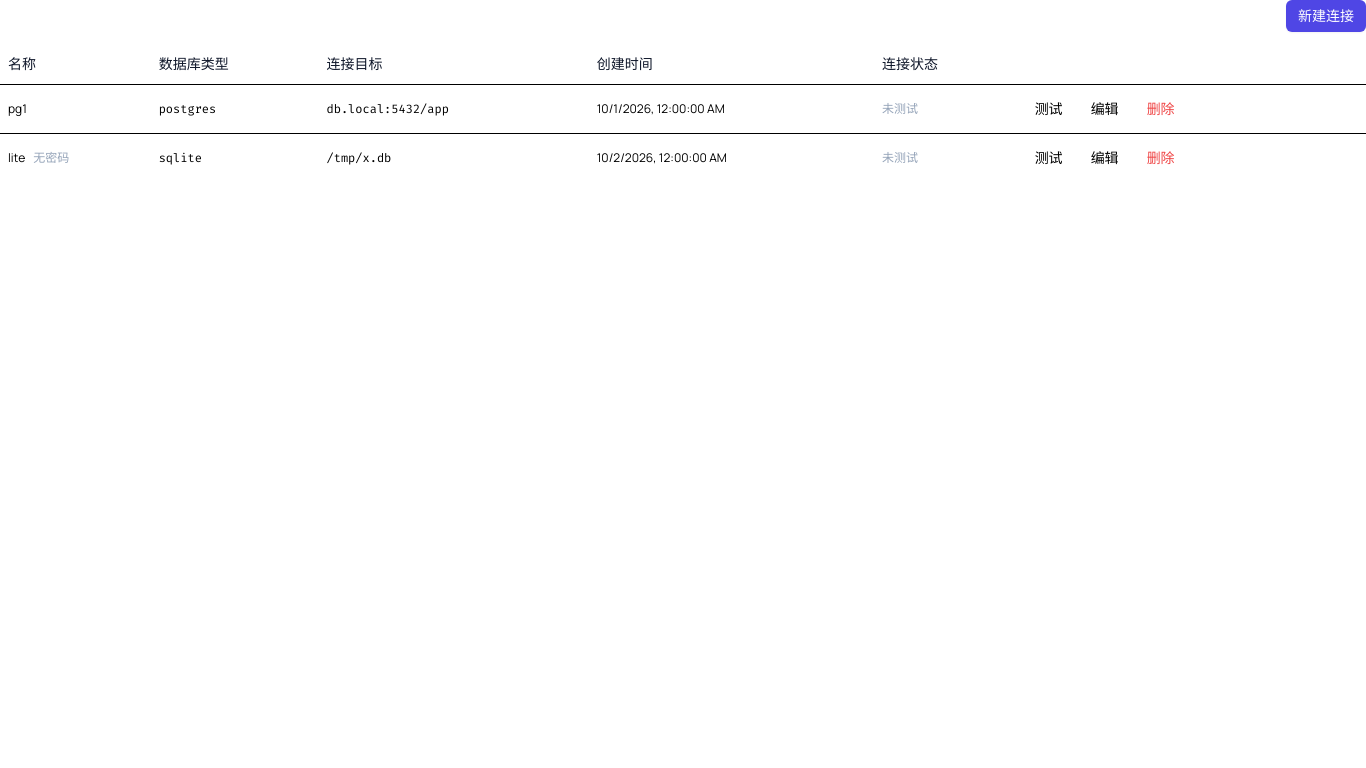
Scenario: ConnectionsPanel — 编辑与删除 › blocks renaming to another connection’s name without a request
Click the button "编辑" in the row of "pg1".
click(1105, 108)  # box [1079,92,1131,124]
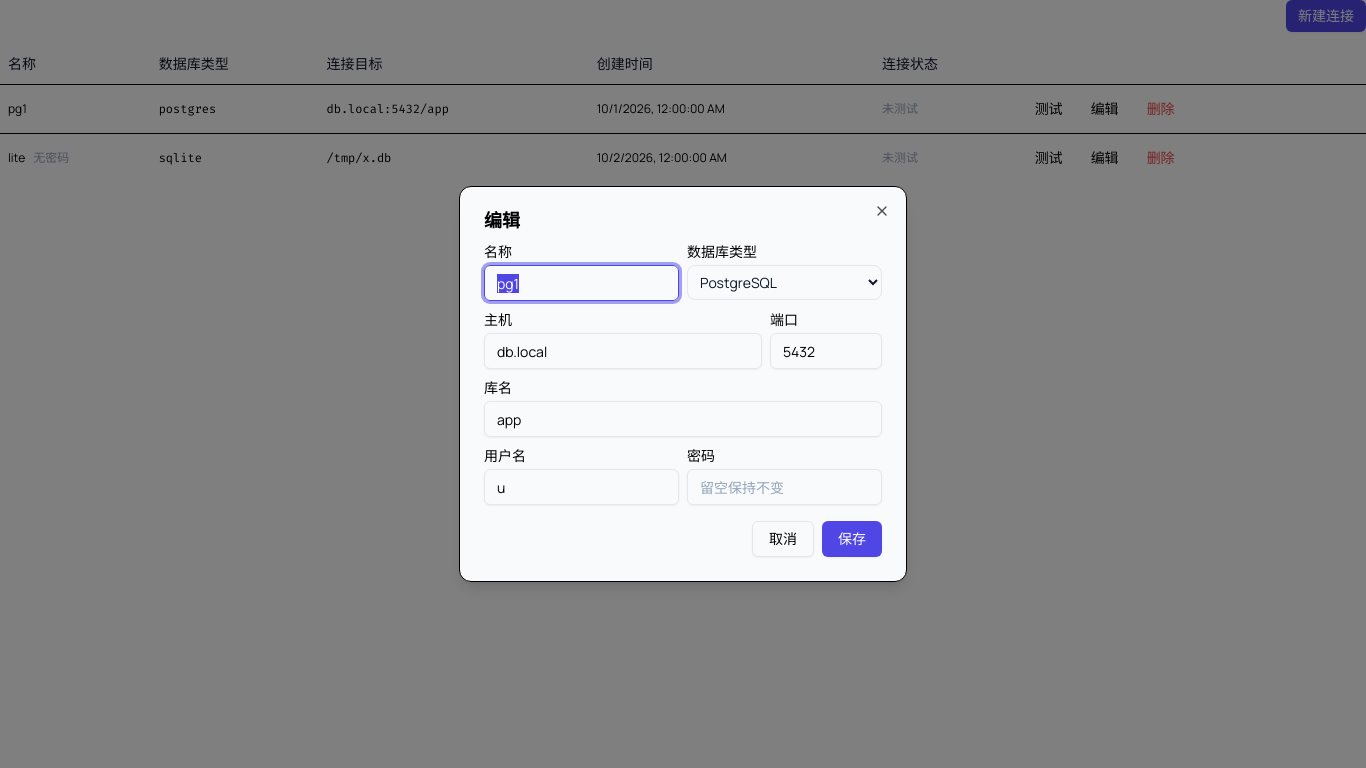
Replace the text in the field labelled "名称" with "lite" at (582, 283), box [484,265,679,301]
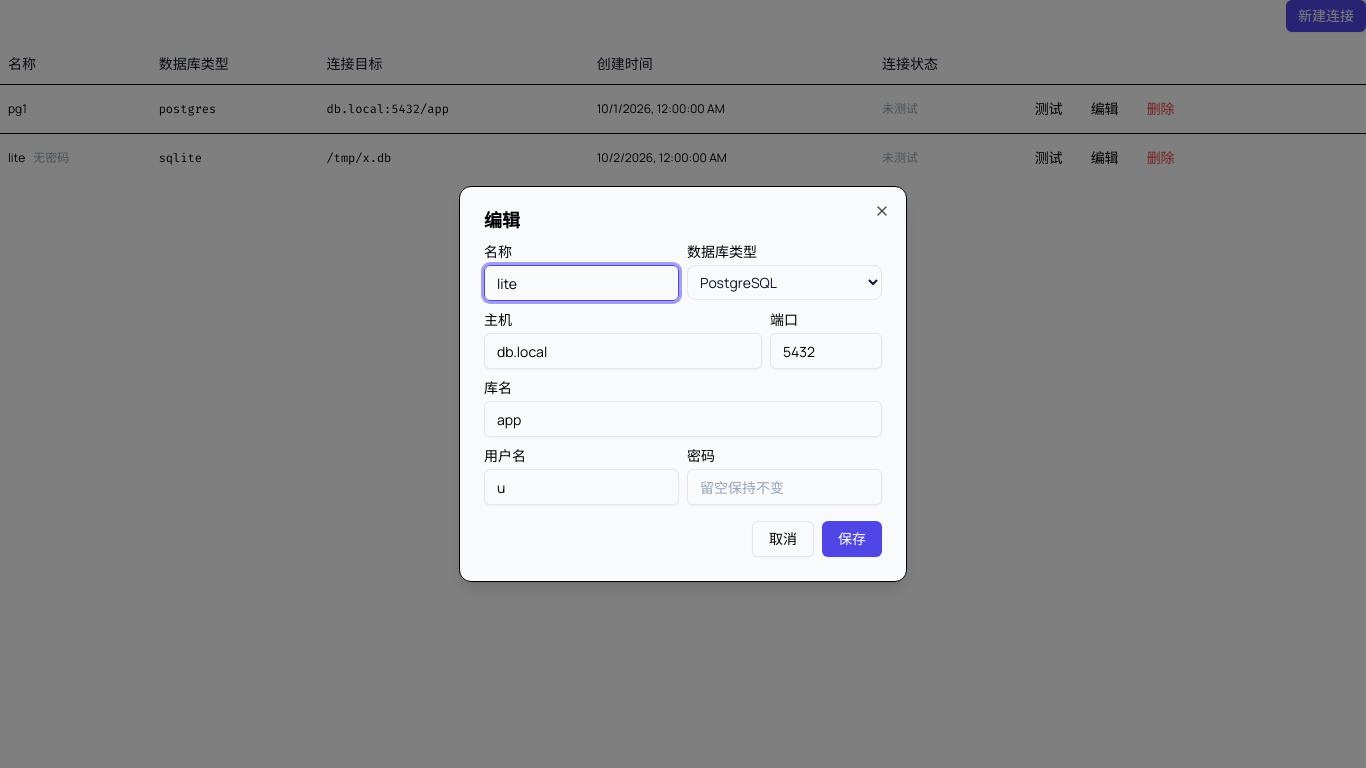
Click the button "保存".
click(852, 539)  # box [822,521,882,557]
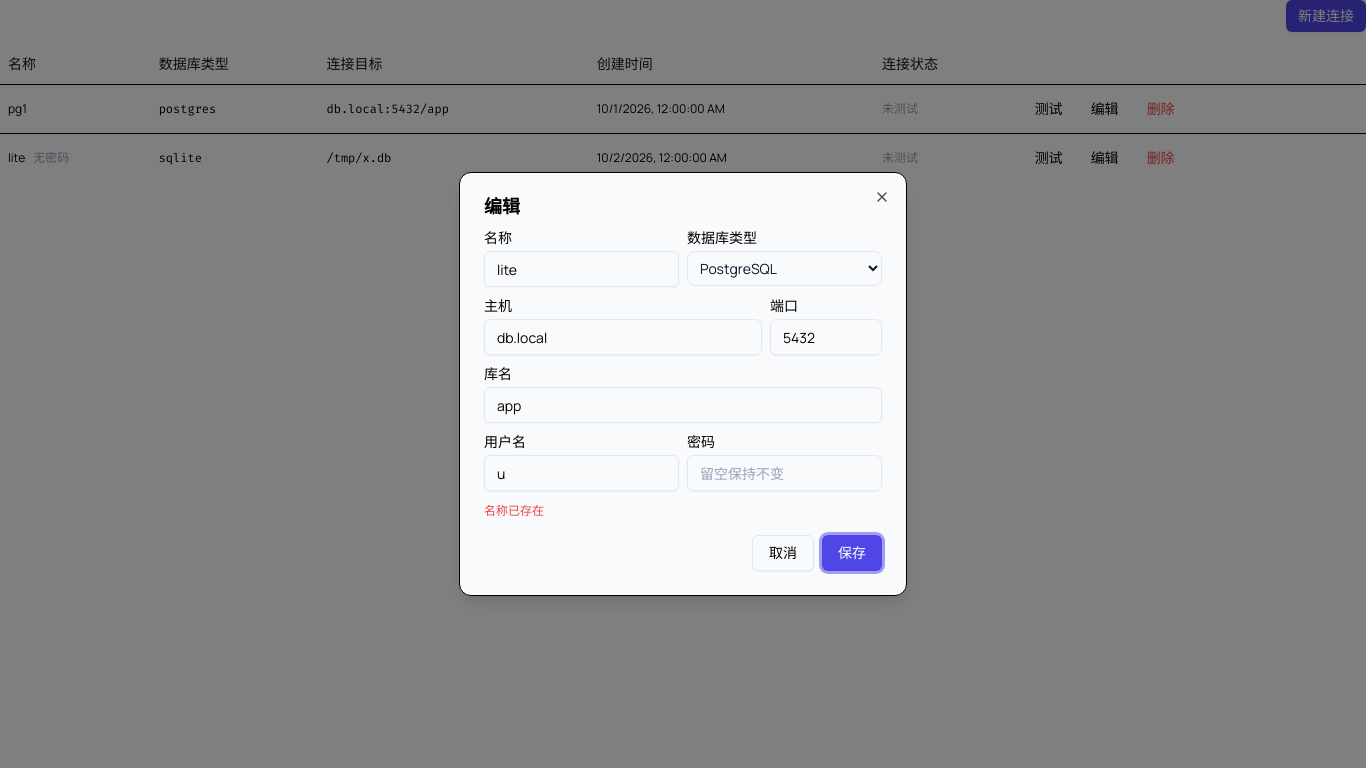
expect the text "名称已存在" is shown: met, box [484,502,544,519]
